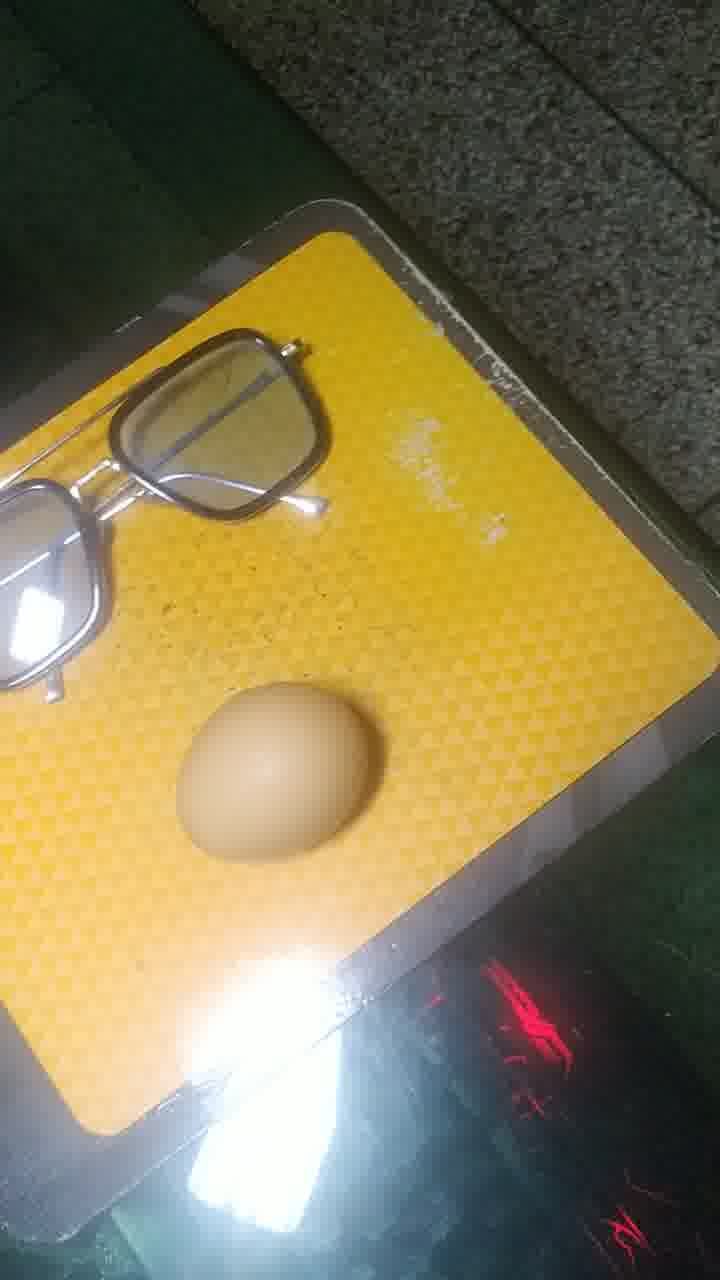egg: (177, 676, 388, 876)
sunglass: (1, 338, 403, 678)
